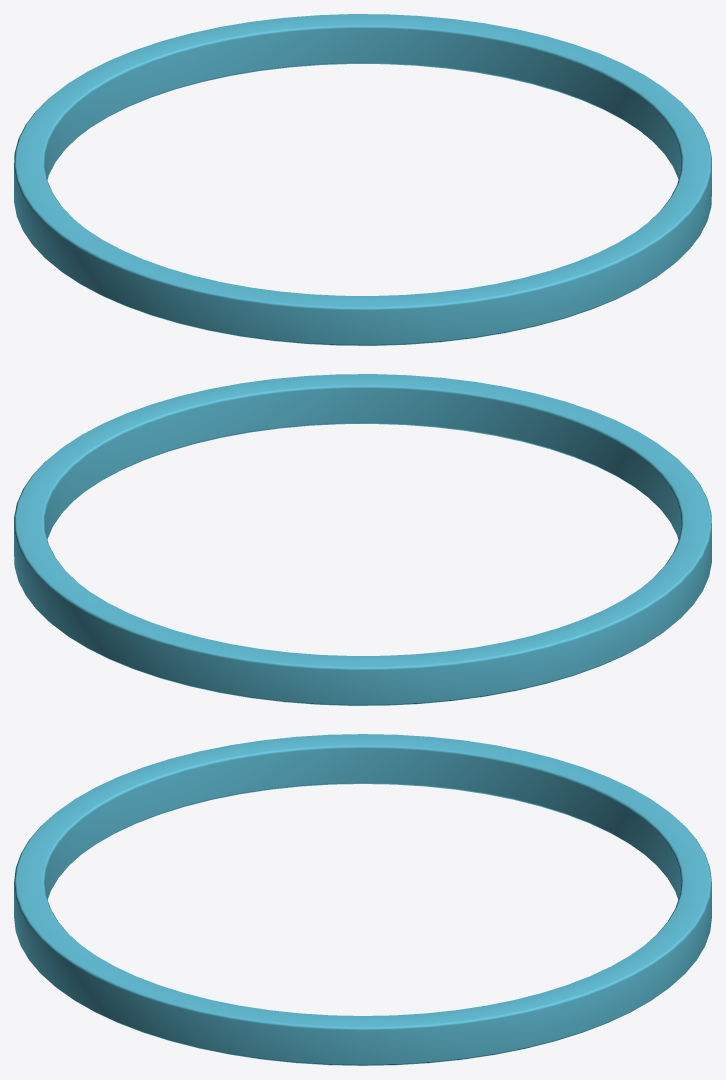
3 renders of one model, top to bottom at view 1: azimuth 30°, elevation 25°; view 2: azimuth 150°, elevation 25°; view 3: azimuth 270°, elevation 25°, orthographic.
Visible parts, largest first — view 1: seal_body; view 2: seal_body; view 3: seal_body.
Boxes of the visible parts, box(x1,y1,x2,y2) form: seal_body: box(14, 14, 711, 345); seal_body: box(14, 374, 711, 705); seal_body: box(14, 734, 711, 1065).
Bounding box in the file's own units: 0.17 × 0.0105 × 0.17.
